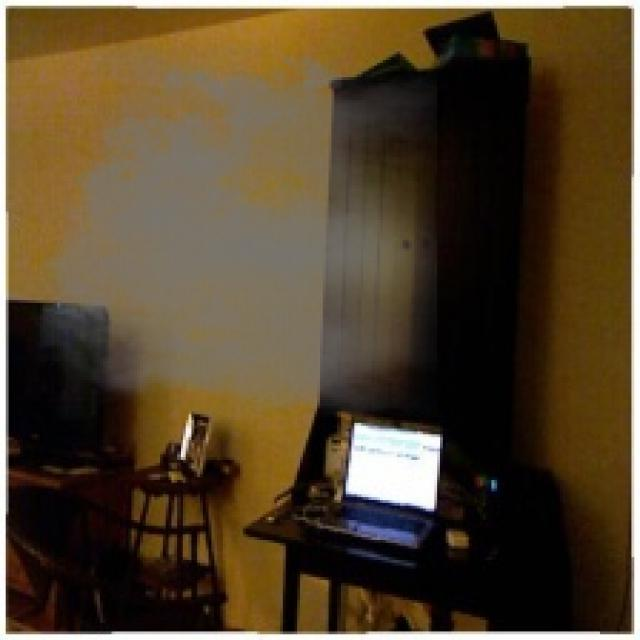Smoke: (22, 42, 438, 418)
